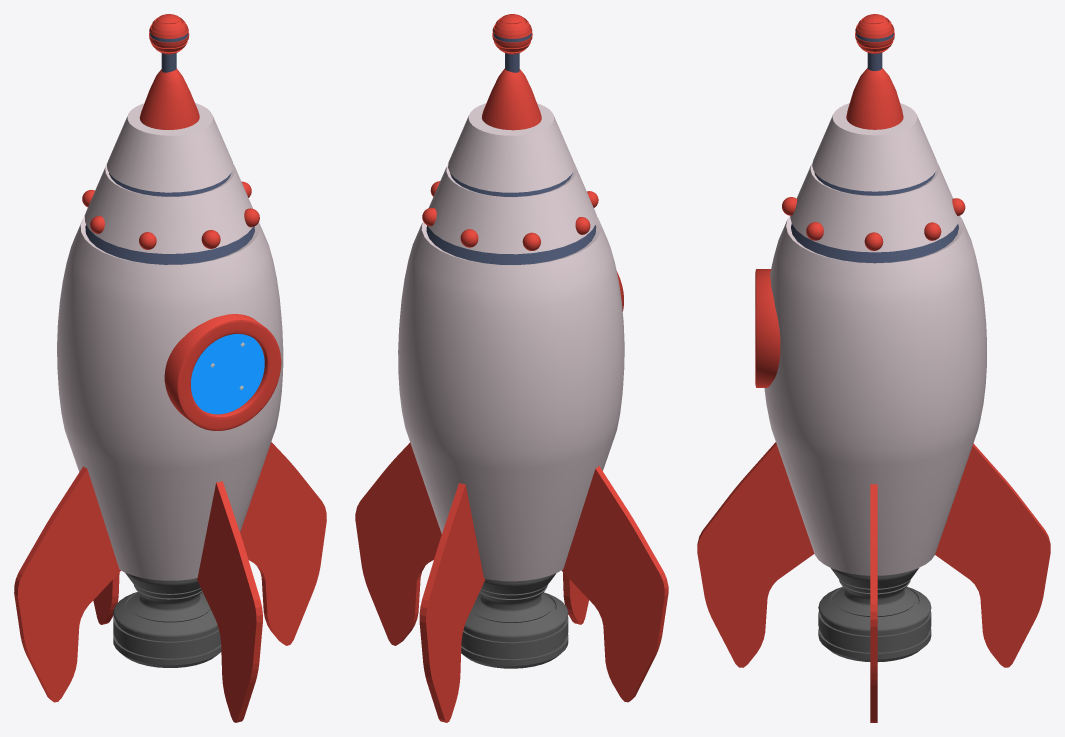
The model's file is rocket.glb.
3 views of the same model, side by side, from view 1: azimuth 30°, elevation 25°; view 2: azimuth 150°, elevation 25°; view 3: azimuth 270°, elevation 25° (orthographic).
Visible parts, largest first — view 1: Rocket_base, Flipper4, Flipper2, Rocket_glass, Flipper1, Rocket_thrusters, Rocket_nose, Rocket_tip, balls, Flipper3; view 2: Rocket_base, Flipper4, Flipper2, Flipper3, Rocket_thrusters, Rocket_nose, Rocket_tip, balls, Flipper1; view 3: Rocket_base, Flipper1, Flipper3, Rocket_thrusters, Rocket_nose, Rocket_glass, Flipper2, Rocket_tip, balls.
Part boxes in pixels (left/top/right/bottom): Rocket_base: left=57, top=103, right=283, bottom=580; Flipper4: left=14, top=466, right=120, bottom=702; Flipper2: left=240, top=442, right=326, bottom=645; Rocket_glass: left=164, top=314, right=281, bottom=430; Flipper1: left=196, top=481, right=262, bottom=722; Rocket_thrusters: left=113, top=572, right=221, bottom=667; Rocket_nose: left=139, top=68, right=199, bottom=129; Rocket_tip: left=149, top=14, right=189, bottom=54; balls: left=82, top=181, right=259, bottom=249; Flipper3: left=93, top=572, right=119, bottom=624; Rocket_base: left=398, top=103, right=624, bottom=581; Flipper4: left=562, top=466, right=668, bottom=702; Flipper2: left=355, top=442, right=441, bottom=645; Flipper3: left=419, top=483, right=485, bottom=722; Rocket_thrusters: left=461, top=573, right=568, bottom=668; Rocket_nose: left=482, top=68, right=541, bottom=130; Rocket_tip: left=492, top=14, right=532, bottom=54; balls: left=422, top=181, right=598, bottom=250; Flipper1: left=563, top=572, right=588, bottom=624; Rocket_base: left=764, top=103, right=986, bottom=575; Flipper1: left=697, top=442, right=814, bottom=667; Flipper3: left=935, top=443, right=1050, bottom=667; Rocket_thrusters: left=818, top=568, right=931, bottom=661; Rocket_nose: left=846, top=68, right=903, bottom=129; Rocket_glass: left=755, top=269, right=780, bottom=387; Flipper2: left=870, top=484, right=877, bottom=722; Rocket_tip: left=855, top=14, right=894, bottom=53; balls: left=782, top=197, right=965, bottom=250.
Bounding box in the file's own units: 0.3741 × 0.7597 × 0.3741.
